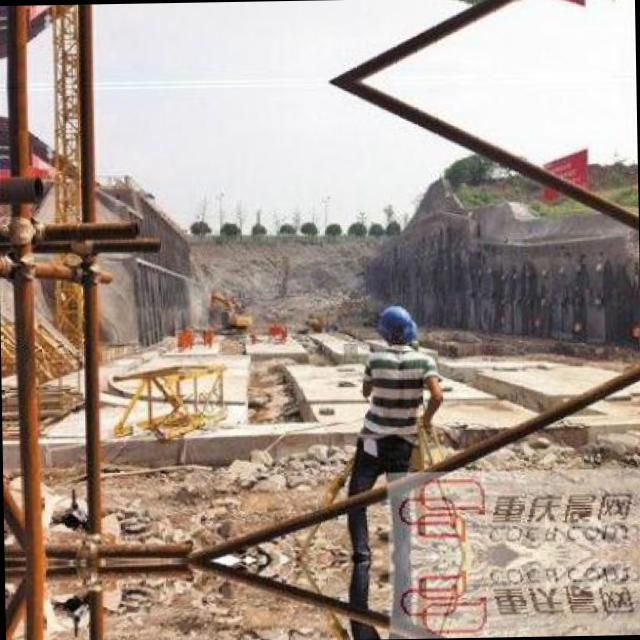helmet: (373, 301, 418, 348)
